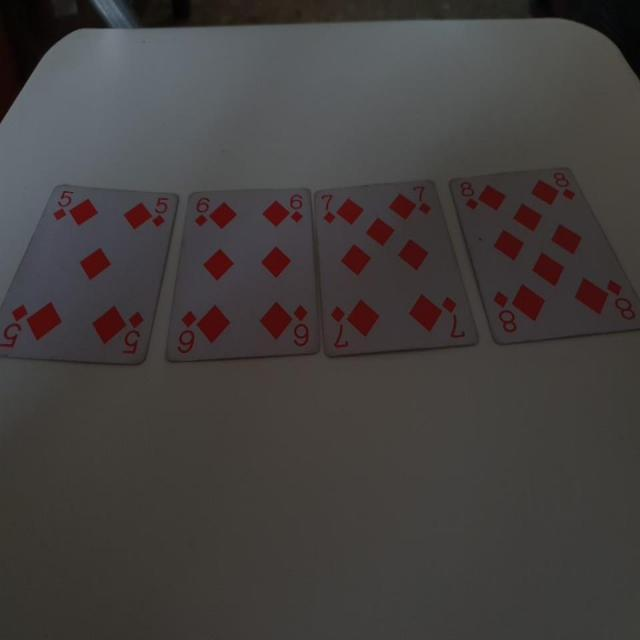5 of diamonds: (0, 176, 185, 372)
6 of diamonds: (164, 183, 318, 362)
7 of diamonds: (310, 180, 480, 358)
8 of diamonds: (447, 162, 637, 350)
